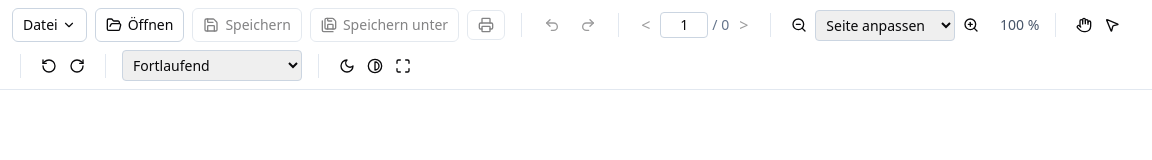
Test: TopBar Ansicht/Design › Rechts-Drehen setzt Ansichtsdrehung + Badge
Click the button with test id "view-rot-right" at (77, 66), box [65,54,89,78]
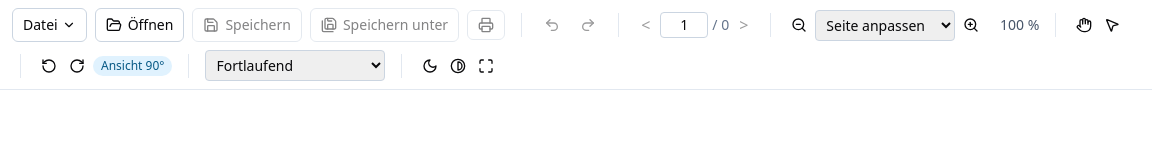
Expected: the message "Ansicht 90°" is shown, [93,56,172,76]
